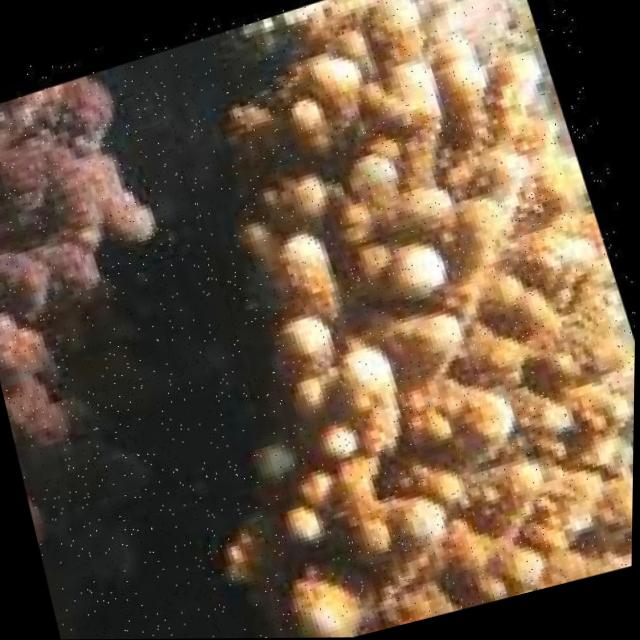Healthy Coral: (160, 0, 640, 639), (0, 47, 267, 546)
